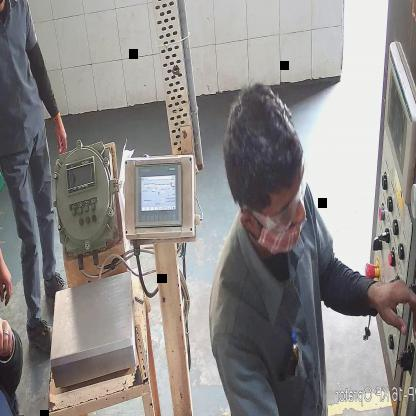no_glove: (367, 274, 416, 329), (0, 209, 15, 306), (51, 111, 69, 156)
